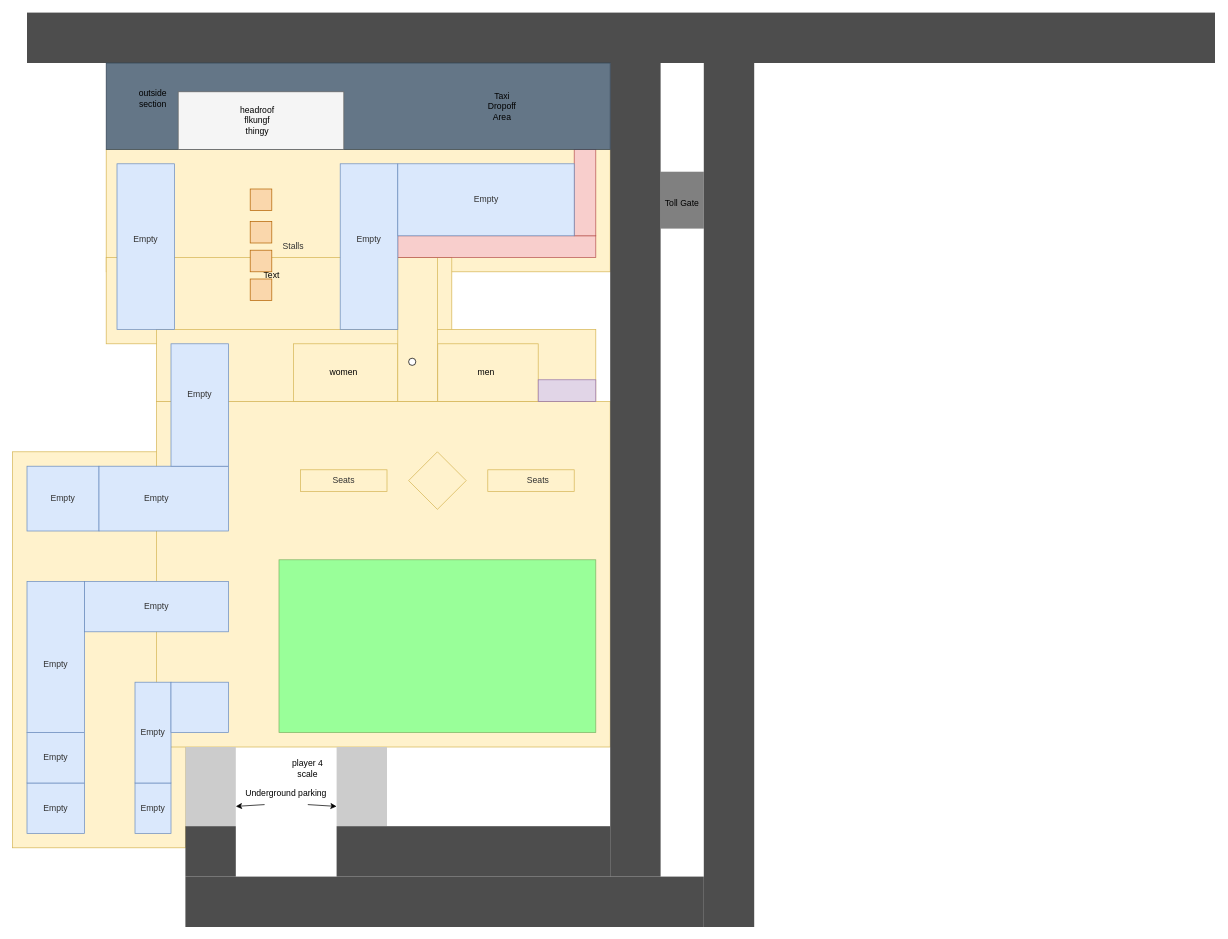
This 1228x939 diagram has some shape labels left out. Each missing label, with the centre of its shape:
"country roaad" belongs at pixel 621 37.
"Fountain" belongs at pixel 437 480.
"shit and fard zone hallway" belongs at pixel 417 329.
"The Wubmarket" belongs at pixel 437 646.
